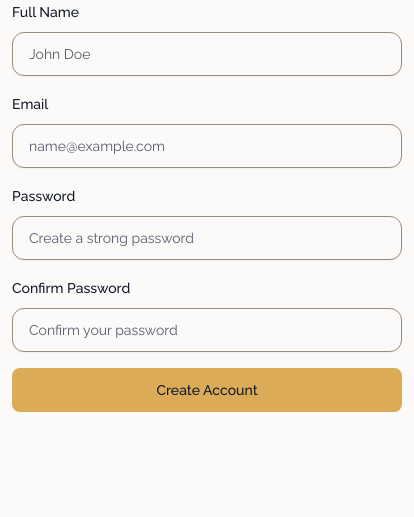
Test: SignupForm › shows the network message
In the field labelled "Full Name": (207, 54) [12, 32, 402, 76], type "Test User"
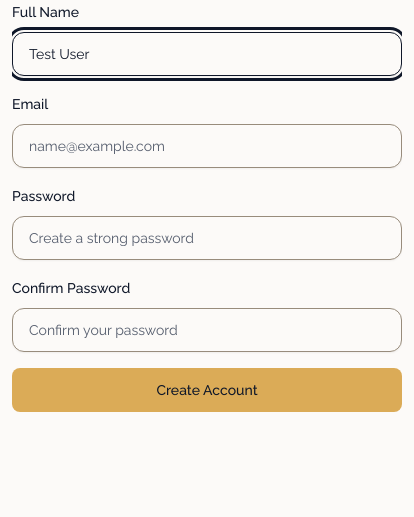
In the field labelled "Email": (207, 146) [12, 124, 402, 168], type "a@b.com"
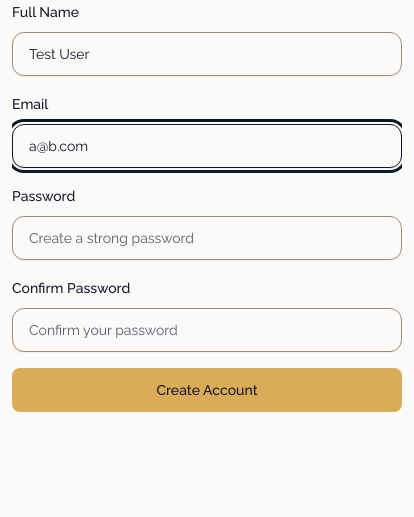
In the password field labelled "Password": (207, 238) [12, 216, 402, 260], type "ValidPass1"
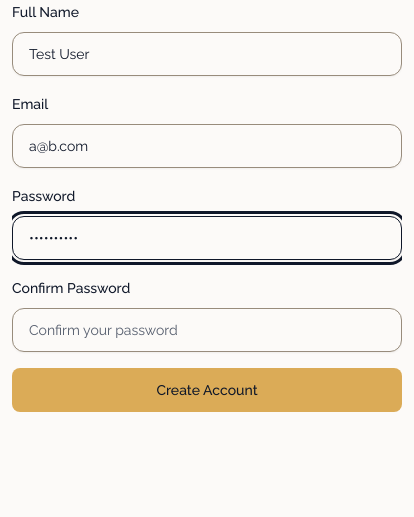
In the password field labelled "Confirm Password": (207, 330) [12, 308, 402, 352], type "ValidPass1"
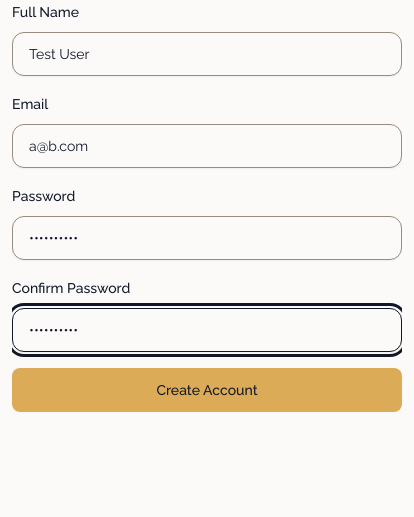
Click the button "Create Account": (207, 390) [12, 368, 402, 412]
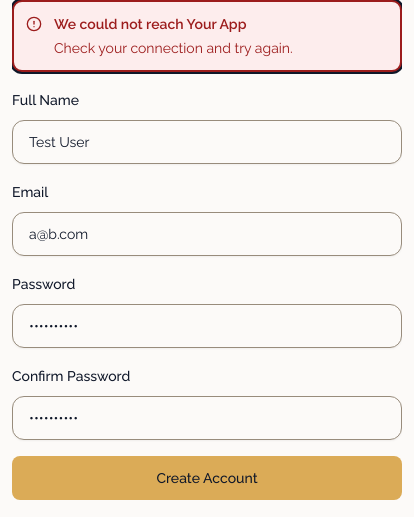
expect the message shows "could not reach Your App": met, box [54, 16, 246, 32]
